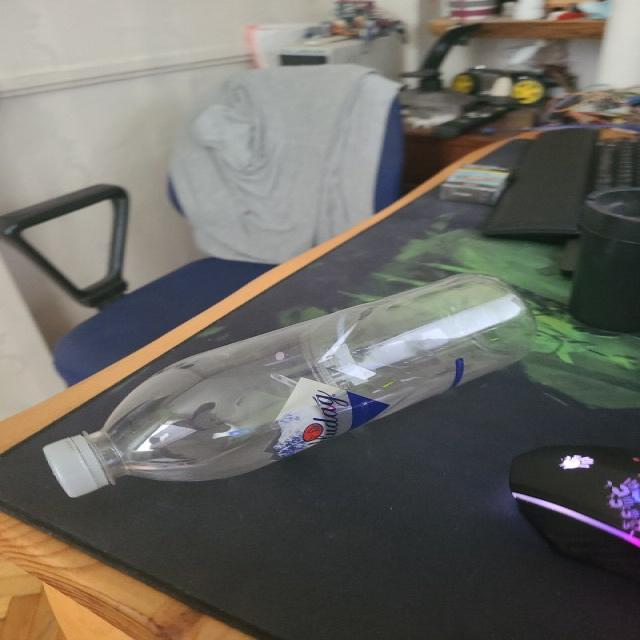plastic_bottle: (41, 274, 536, 498)
